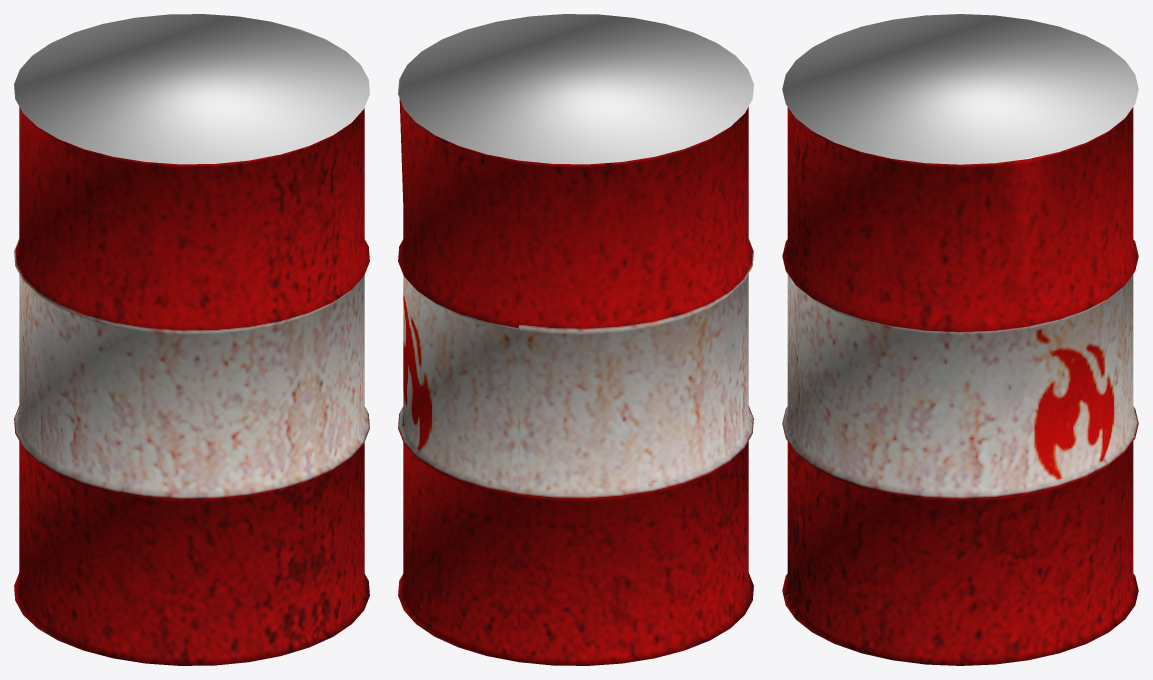
File: DrumCan.gltf
3 renders of one model, left to right at view 1: azimuth 30°, elevation 25°; view 2: azimuth 150°, elevation 25°; view 3: azimuth 270°, elevation 25°, orthographic.
Visible parts, largest first — view 1: Cylinder; view 2: Cylinder; view 3: Cylinder.
Boxes of the visible parts, x1,y1,x2,y2 form: Cylinder: [14, 14, 369, 665]; Cylinder: [398, 14, 753, 665]; Cylinder: [782, 14, 1138, 665].
Size of the model in its own units: 0.5155 by 0.8 by 0.5155.
1 material, 1 textured.
